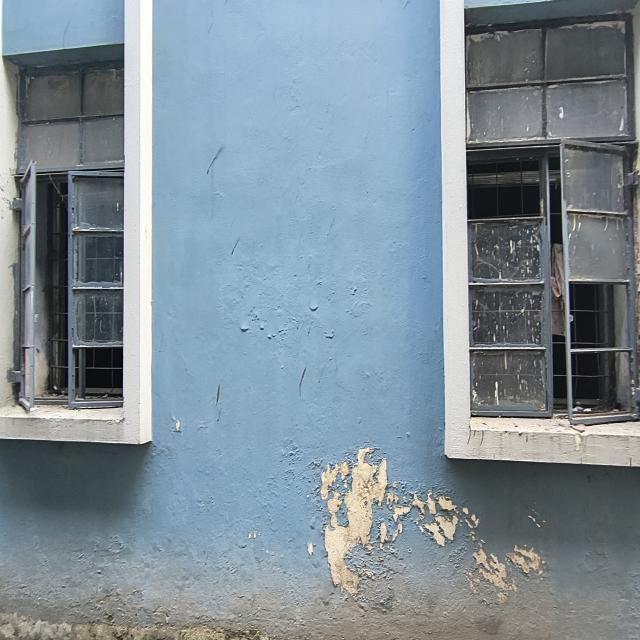Broken window pane: (466, 148, 550, 416), (563, 141, 633, 417), (69, 172, 124, 404), (466, 150, 544, 150)
Paint Peeling: (247, 432, 545, 606)
